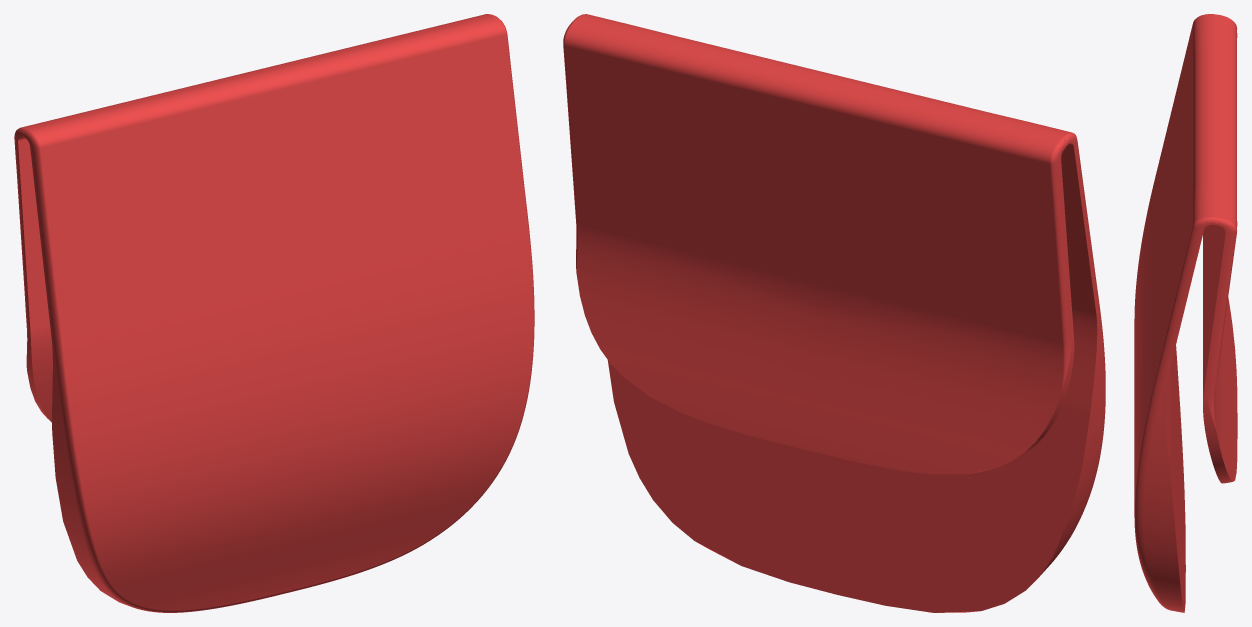
Rendered from Ruecken.glb.
The picture shows the model from 3 angles, left to right: view 1: azimuth 30°, elevation 25°; view 2: azimuth 150°, elevation 25°; view 3: azimuth 270°, elevation 25°; orthographic projection. The views are drawn at different scales.
Visible parts, largest first — view 1: Object_1; view 2: Object_1; view 3: Object_1.
Part boxes in pixels (x1=…): Object_1: x1=14, y1=14, x2=534, y2=612; Object_1: x1=563, y1=14, x2=1105, y2=612; Object_1: x1=1134, y1=14, x2=1237, y2=612.
Bounding box in the file's own units: 0.3654 × 0.3744 × 0.0771.
